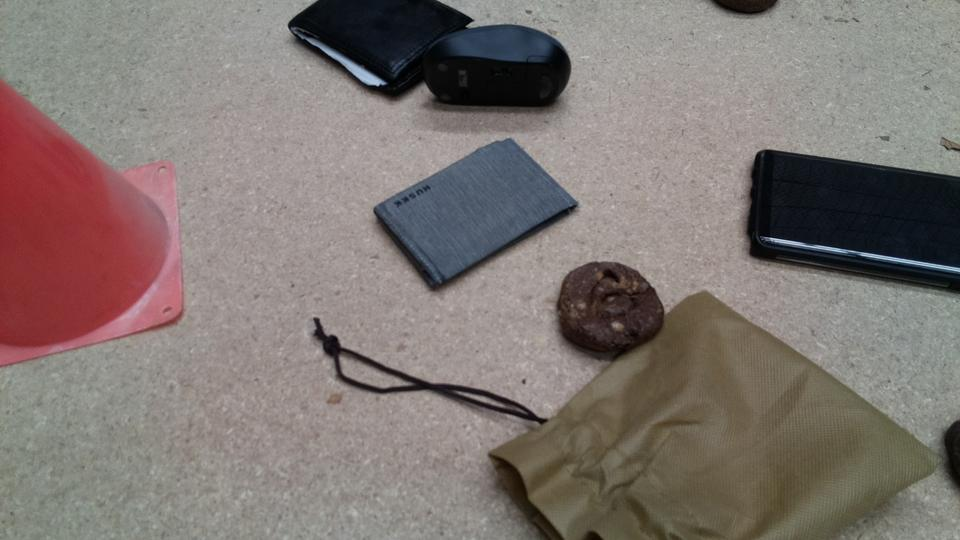poop: (554, 257, 667, 357)
